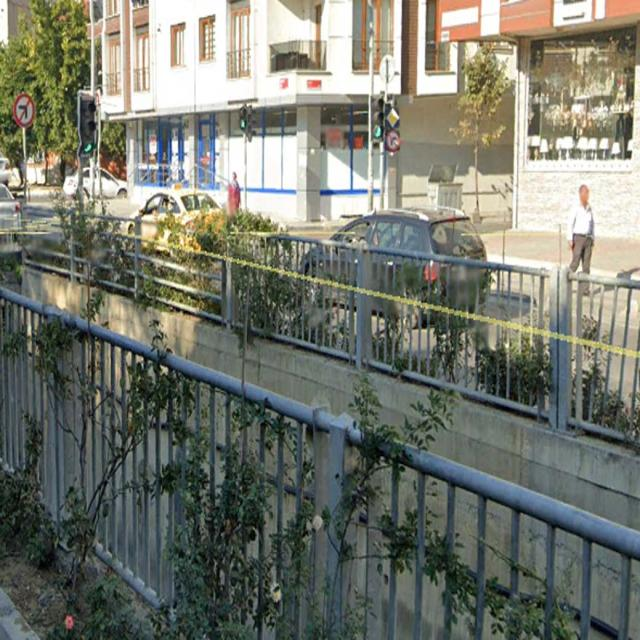sagadonulmez: (387, 131, 400, 152)
soladonulmez: (14, 94, 35, 127)
yesil: (78, 90, 95, 158), (370, 95, 383, 141)
